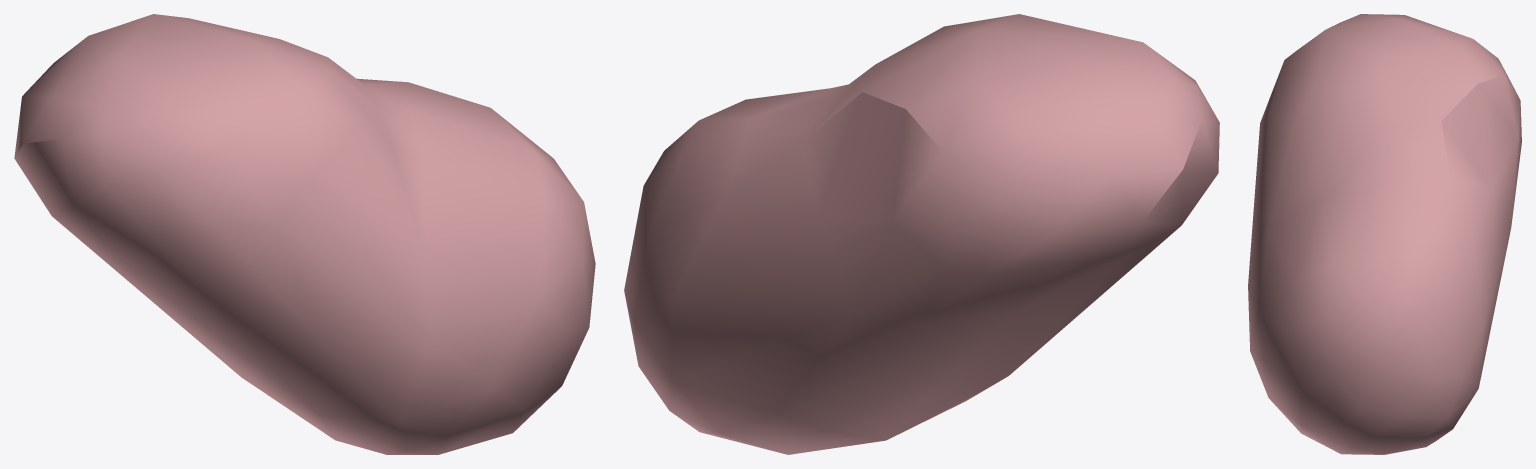
The model's file is fma14966_fj2597.glb.
3 views of the same model, side by side, from view 1: azimuth 30°, elevation 25°; view 2: azimuth 150°, elevation 25°; view 3: azimuth 270°, elevation 25° (orthographic). The views are drawn at different scales.
Parts seen in each view (by area): view 1: FMA14966_FJ2597; view 2: FMA14966_FJ2597; view 3: FMA14966_FJ2597.
Boxes of the visible parts, bbox=[...] form: FMA14966_FJ2597: bbox=[14, 14, 595, 454]; FMA14966_FJ2597: bbox=[624, 14, 1219, 454]; FMA14966_FJ2597: bbox=[1248, 14, 1521, 454].
Size of the model in its own units: 0.0387 by 0.0301 by 0.0237.
